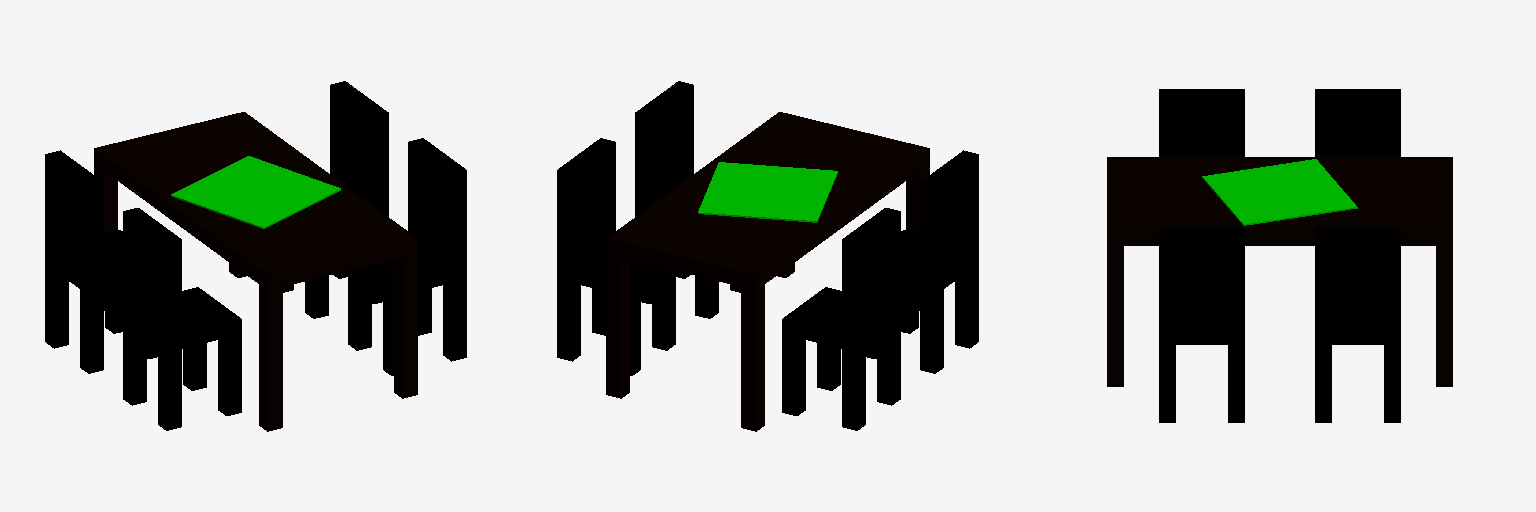
The model's file is BoardGame.obj.
The picture shows the model from 3 angles: view 1: azimuth 30°, elevation 25°; view 2: azimuth 150°, elevation 25°; view 3: azimuth 270°, elevation 25°; orthographic projection.
Visible parts, largest first — view 1: Table, Chair, Chair.002, Chair.003, Chair.001, Board; view 2: Table, Chair.003, Chair.001, Chair, Chair.002, Board; view 3: Table, Chair.001, Chair.002, Board, Chair.003, Chair.
Boxes of the visible parts, box(x1,y1,x2,y2) form: Table: box(94, 112, 417, 431); Chair: box(123, 208, 241, 430); Chair.002: box(348, 138, 466, 375); Chair.003: box(45, 150, 157, 373); Chair.001: box(283, 81, 388, 318); Board: box(171, 156, 340, 228); Table: box(606, 112, 929, 431); Chair.003: box(782, 208, 900, 430); Chair.001: box(557, 138, 675, 375); Chair: box(866, 150, 978, 373); Chair.002: box(635, 81, 740, 318); Board: box(698, 162, 837, 222); Table: box(1107, 157, 1452, 386); Chair.001: box(1315, 228, 1400, 422); Chair.002: box(1159, 228, 1244, 422); Board: box(1202, 159, 1357, 225); Chair.003: box(1315, 89, 1400, 156); Chair: box(1159, 89, 1244, 156).
Bounding box in the file's own units: 2 × 1.2 × 2.